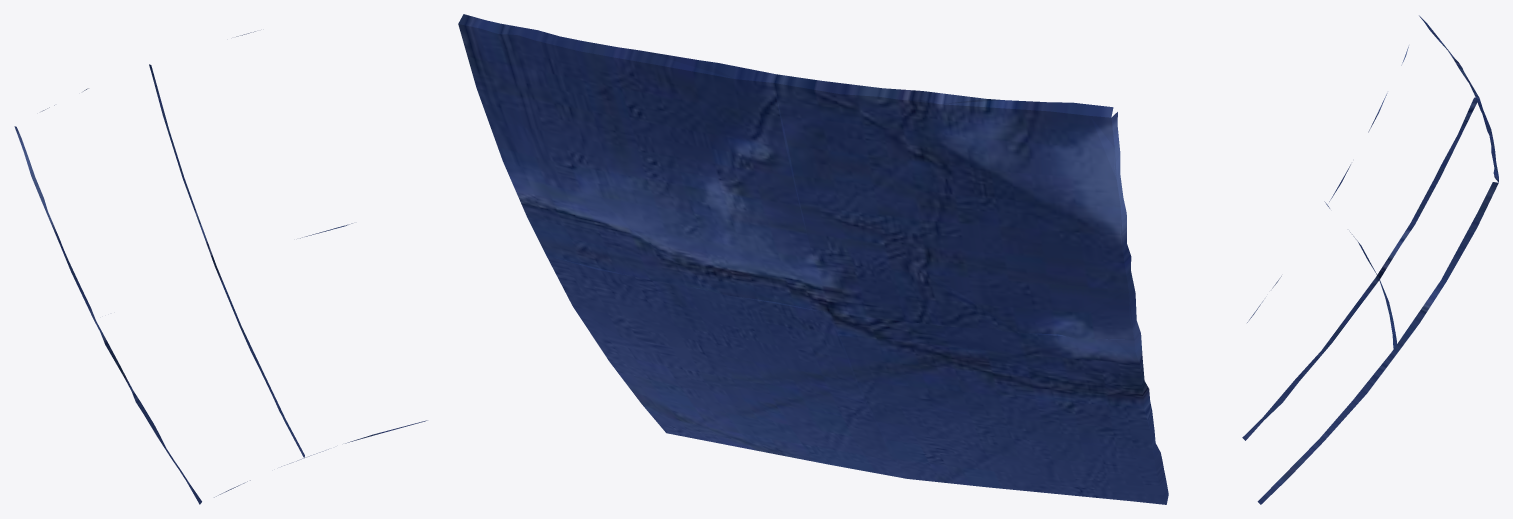
3 views of the same model, side by side, from view 1: azimuth 30°, elevation 25°; view 2: azimuth 150°, elevation 25°; view 3: azimuth 270°, elevation 25° (orthographic). The views are drawn at different scales.
Bounding box in the file's own units: 2285685 × 2102771 × 1755539.
1 material, 1 textured.
